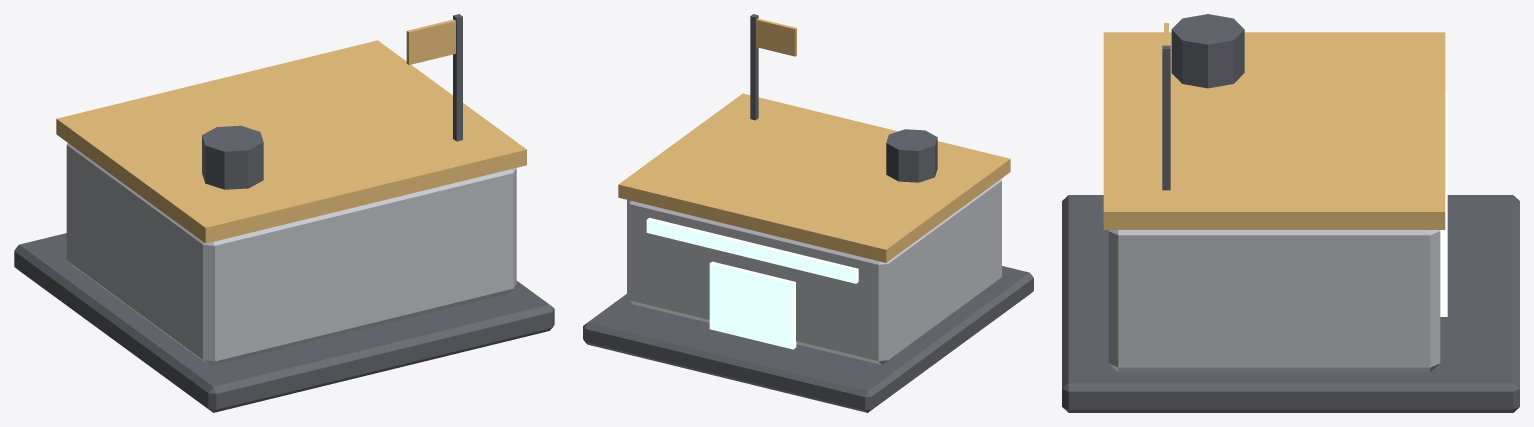
The model's file is barracks-AgHeHm-M.glb.
The picture shows the model from 3 angles, left to right: view 1: azimuth 30°, elevation 25°; view 2: azimuth 150°, elevation 25°; view 3: azimuth 270°, elevation 25°; orthographic projection. The views are drawn at different scales.
Visible parts, largest first — view 1: slab; view 2: slab; view 3: slab.
Boxes of the visible parts, <box> form: slab: <box>14,14,554,412</box>; slab: <box>583,14,1033,412</box>; slab: <box>1062,14,1519,412</box>.
Bounding box in the file's own units: 2.76 × 2.25 × 2.76.
